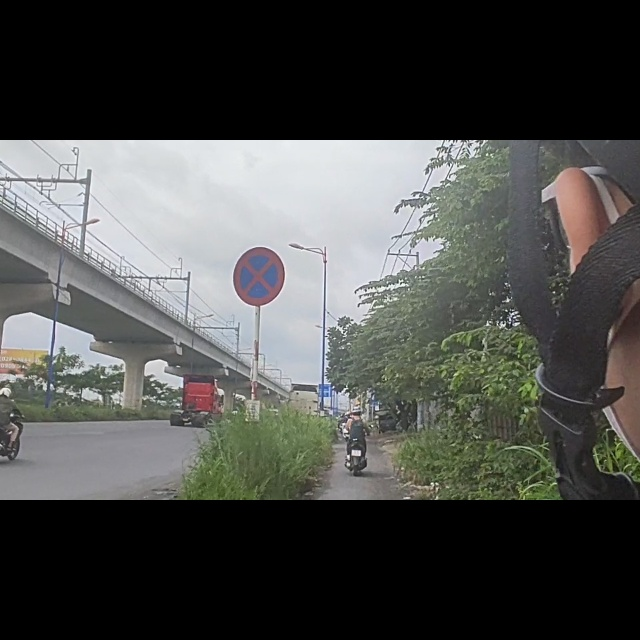bien_cam: (229, 187, 294, 303)
